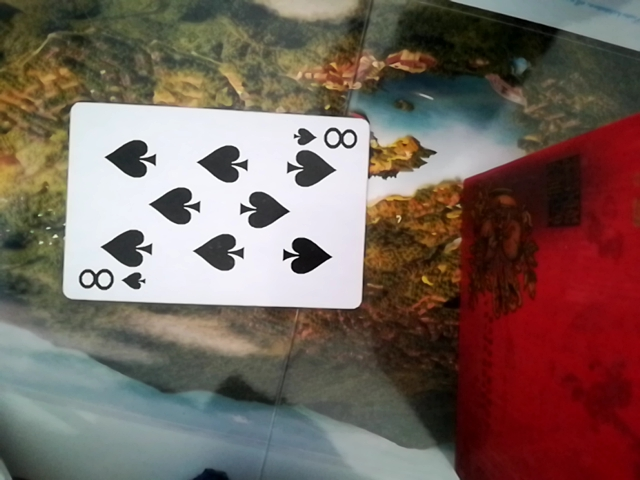ht 8: (55, 102, 373, 306)
